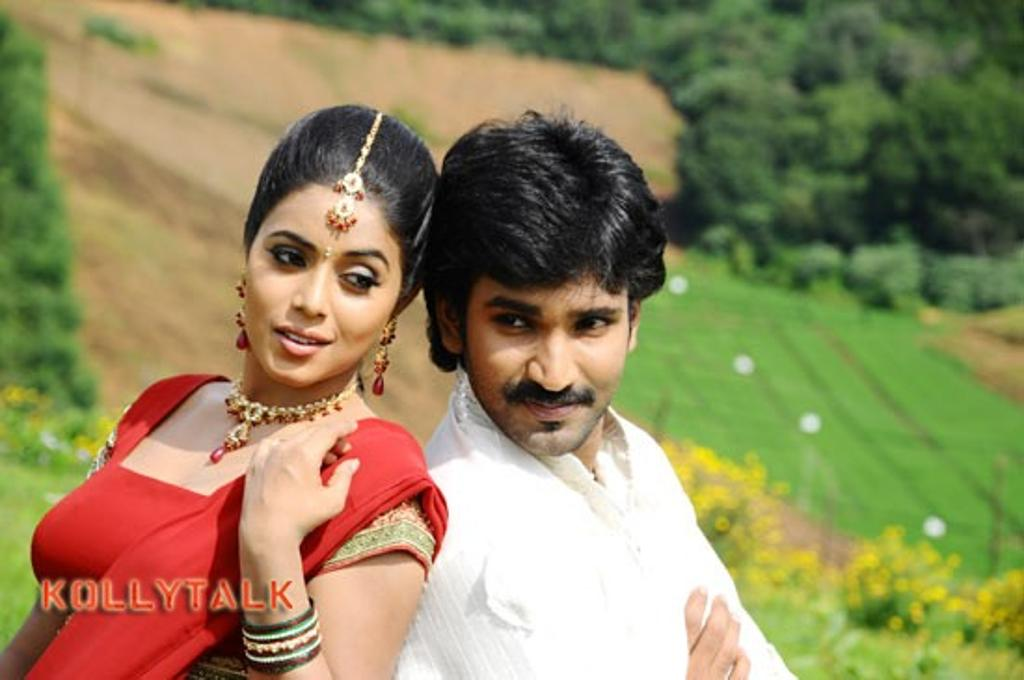face: (466, 230, 630, 454), (256, 192, 390, 380)
